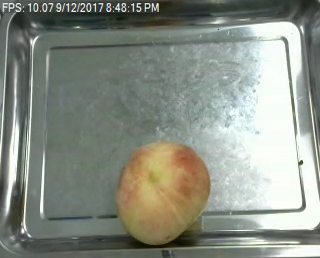Peach: (115, 139, 211, 247)
